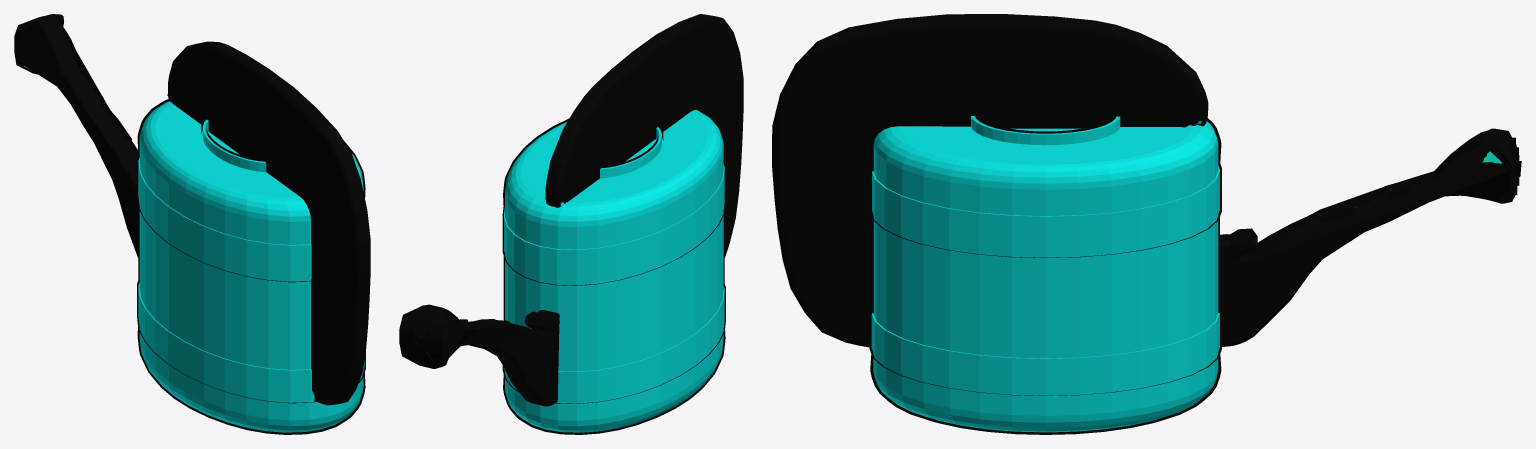
The model's file is watercanHighlight.fbx.
The picture shows the model from 3 angles, left to right: view 1: azimuth 30°, elevation 25°; view 2: azimuth 150°, elevation 25°; view 3: azimuth 270°, elevation 25°; orthographic projection. The views are drawn at different scales.
Visible parts, largest first — view 1: Cylinder.002; view 2: Cylinder.002; view 3: Cylinder.002.
Boxes of the visible parts, bbox=[...] form: Cylinder.002: bbox=[14, 14, 370, 434]; Cylinder.002: bbox=[399, 14, 743, 434]; Cylinder.002: bbox=[772, 14, 1521, 434].
Size of the model in its own units: 150 by 280 by 507.
